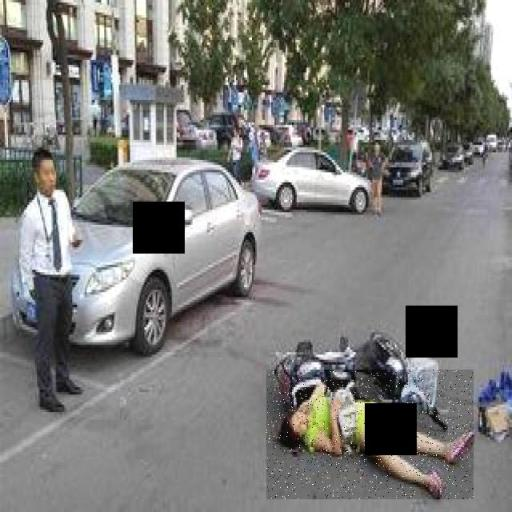Fall: (267, 370, 474, 499)
